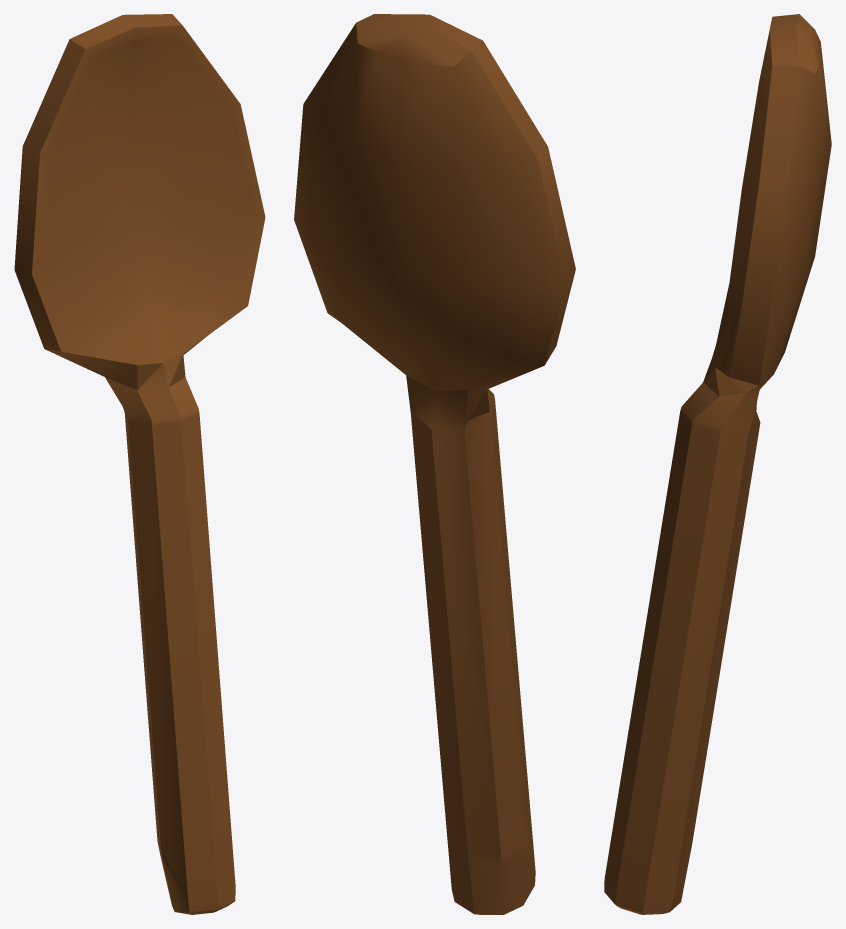
The model's file is wooden spoon.fbx.
3 renders of one model, left to right at view 1: azimuth 30°, elevation 25°; view 2: azimuth 150°, elevation 25°; view 3: azimuth 270°, elevation 25°, orthographic. The views are drawn at different scales.
Visible parts, largest first — view 1: wooden spoon; view 2: wooden spoon; view 3: wooden spoon.
Boxes of the visible parts, box(x1,y1,x2,y2) form: wooden spoon: box(14, 14, 265, 914); wooden spoon: box(294, 14, 575, 914); wooden spoon: box(604, 14, 831, 914).
Bounding box in the file's own units: 6.49 × 21.54 × 5.06.
